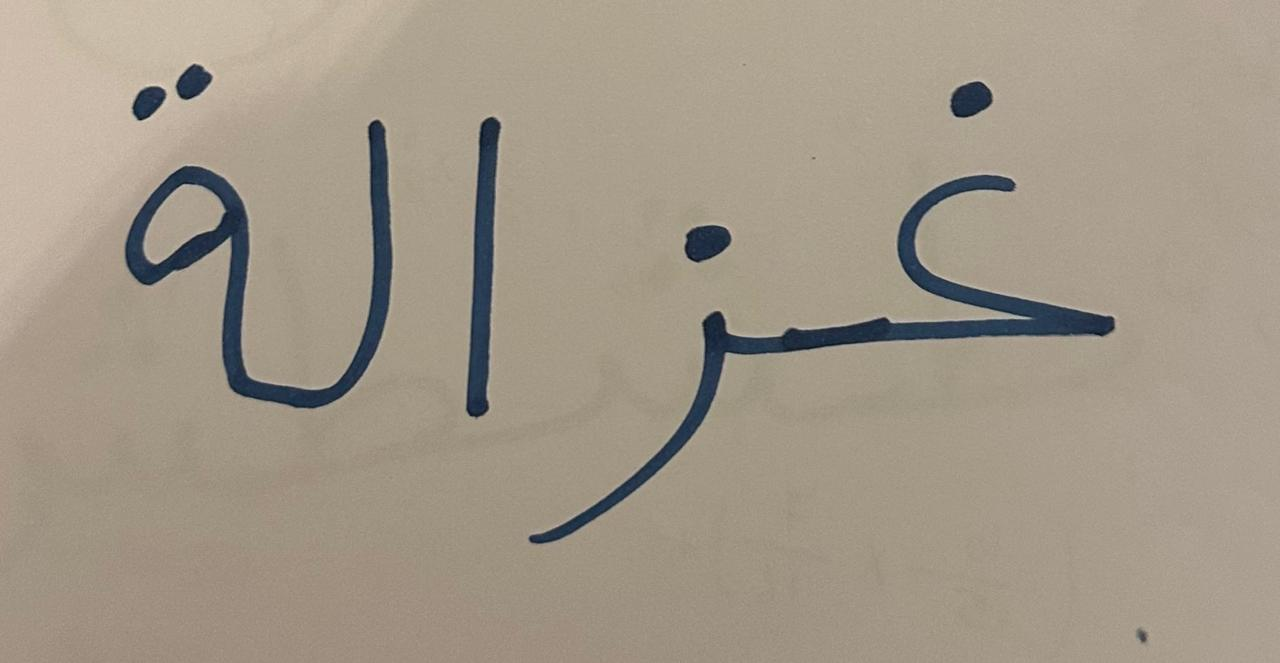alef: (420, 71, 514, 467)
ghain: (781, 25, 1153, 445)
hamza: (519, 133, 777, 578)
meem: (277, 78, 415, 503)
thal: (66, 19, 273, 448)
